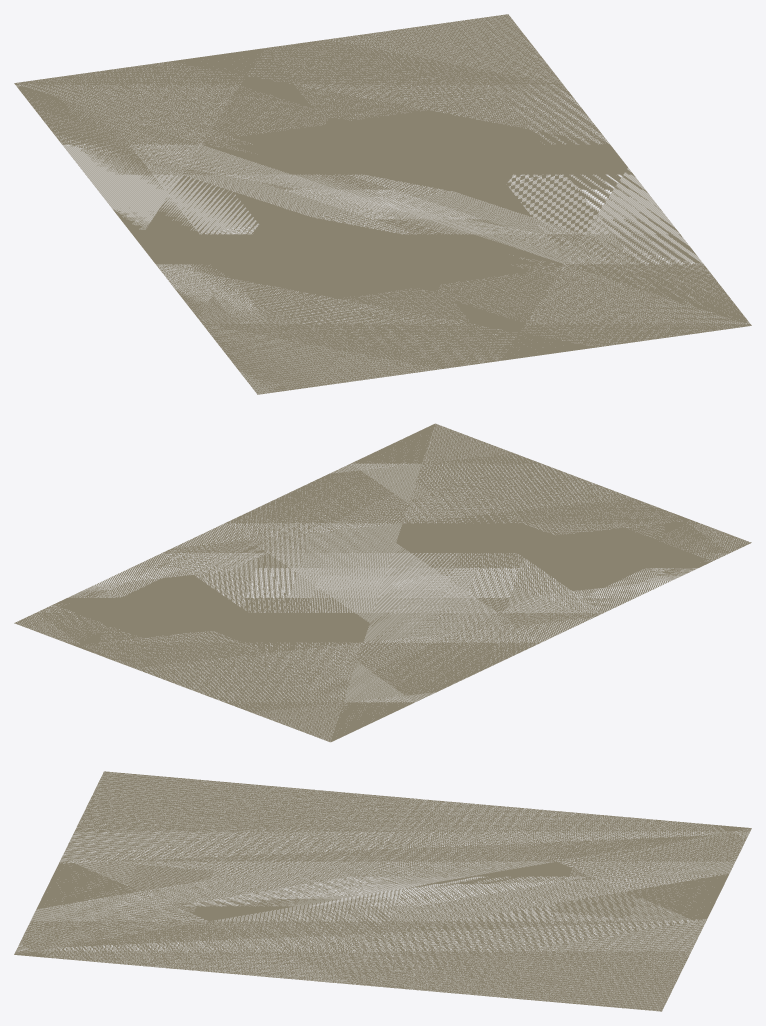
The model's file is 大本钟90.dae.
3 views of the same model, one above another, from view 1: azimuth 30°, elevation 25°; view 2: azimuth 150°, elevation 25°; view 3: azimuth 270°, elevation 25° (orthographic). The views are drawn at different scales.
Parts seen in each view (by area): view 1: SketchUp; view 2: SketchUp; view 3: SketchUp.
Part boxes in pixels (<box>): SketchUp: <box>14,14,751,394</box>; SketchUp: <box>14,423,751,742</box>; SketchUp: <box>14,771,751,1011</box>.
Size of the model in its own units: 34.33 by 44.55 by 0.
